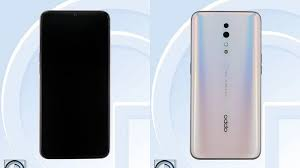oppo: (185, 7, 264, 161)
